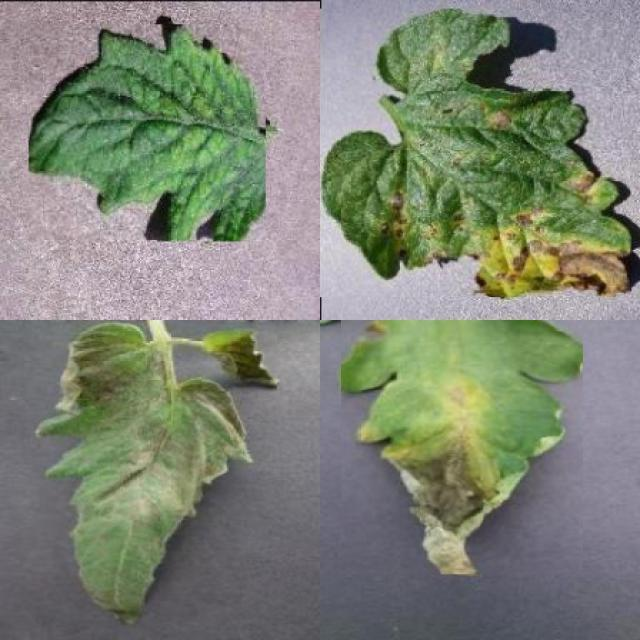Late Blight: (33, 320, 248, 626), (340, 320, 583, 574), (202, 326, 277, 391)
Mosaic Virus: (28, 25, 266, 242)
Septoria: (320, 9, 631, 297)
